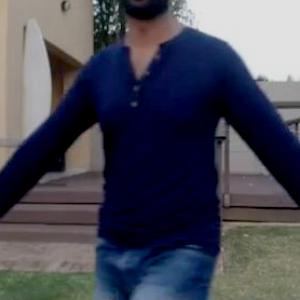land: (1, 0, 299, 290)
